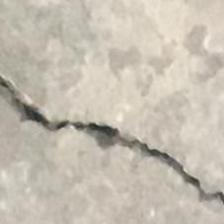Crack: (2, 30, 224, 224)
